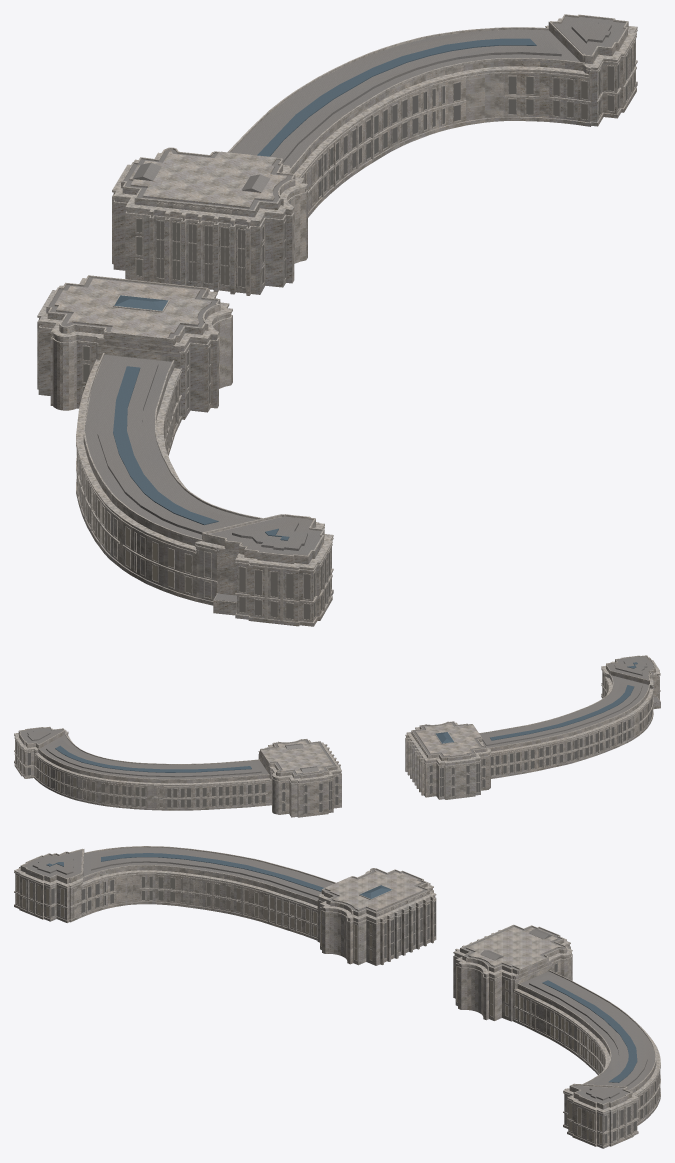
Rendered from palais-de-chaillot.glb.
The picture shows the model from 3 angles, top to bottom: view 1: azimuth 30°, elevation 25°; view 2: azimuth 150°, elevation 25°; view 3: azimuth 270°, elevation 25°; orthographic projection. The views are drawn at different scales.
Visible parts, largest first — view 1: stone, trim, roof, window, glass; view 2: stone, trim, roof, window, glass; view 3: stone, trim, roof, window, glass.
Boxes of the visible parts, box(x1,y1,x2,y2) form: stone: box(37, 23, 637, 626); trim: box(37, 14, 637, 620); roof: box(49, 16, 625, 602); window: box(79, 43, 634, 619); glass: box(113, 38, 536, 540); stone: box(14, 660, 660, 817); trim: box(14, 655, 660, 814); roof: box(20, 656, 659, 779); window: box(16, 681, 651, 813); glass: box(55, 662, 637, 772); stone: box(14, 850, 660, 1148); trim: box(14, 846, 660, 1144); roof: box(23, 847, 654, 1104); window: box(16, 876, 655, 1143); glass: box(46, 853, 637, 1082).
Bounding box in the file's own units: 328 × 29.99 × 335.
5 materials, 5 textured.
